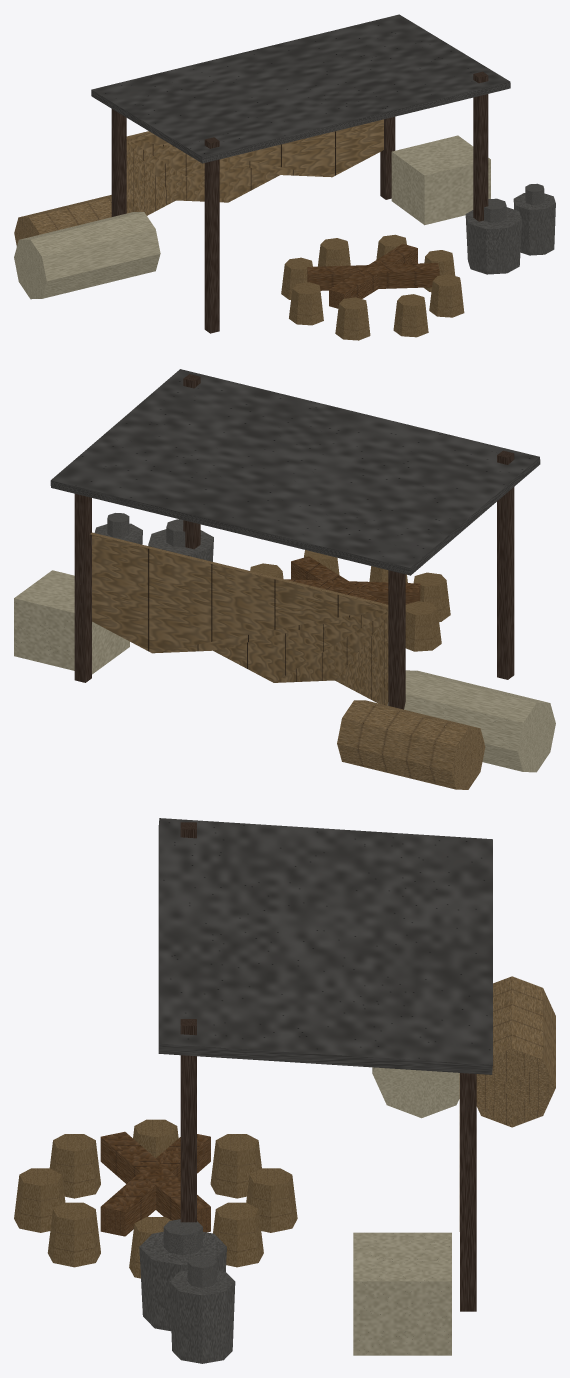
The model's file is nomad_camp.glb.
The picture shows the model from 3 angles, top to bottom: view 1: azimuth 30°, elevation 25°; view 2: azimuth 150°, elevation 25°; view 3: azimuth 270°, elevation 25°; orthographic projection. The views are drawn at different scales.
Visible parts, largest first — view 1: nomad_camp; view 2: nomad_camp; view 3: nomad_camp.
Part boxes in pixels (x1,y1,x2,y2): nomad_camp: [14, 14, 555, 340]; nomad_camp: [14, 369, 555, 789]; nomad_camp: [14, 818, 555, 1363].
Size of the model in its own units: 2.85 by 1.15 by 1.98.
1 material, 1 textured.
